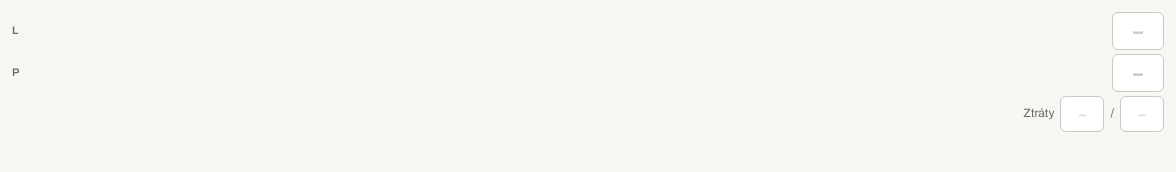
Test: ScoreInputs › hodnota nad maximum se nepřijme (překlep 66 zůstane 6)
Type "66" into the number field named "Z: góly vlevo" at {"x": 1138, "y": 31}, box x1=1112 y1=12 x2=1164 y2=50
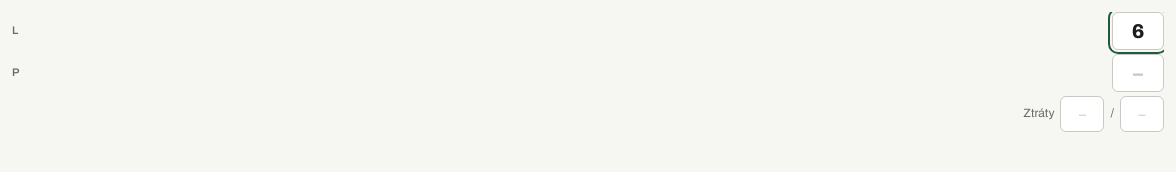
Now the number field named "Z: góly vlevo" holds "6", box x1=1112 y1=12 x2=1164 y2=50
Type "31" into the number field named "Z: ztráty vlevo" at {"x": 1082, "y": 114}, box x1=1060 y1=96 x2=1104 y2=132
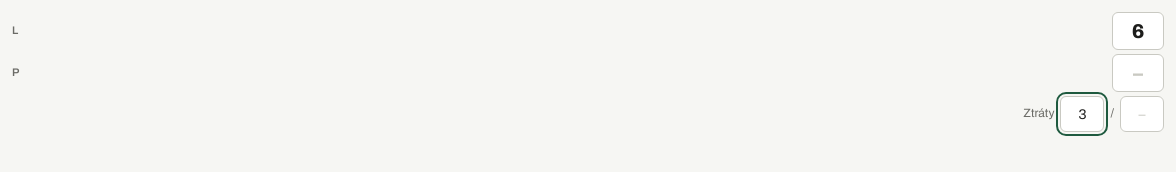
Now the number field named "Z: ztráty vlevo" holds "3", box x1=1060 y1=96 x2=1104 y2=132
